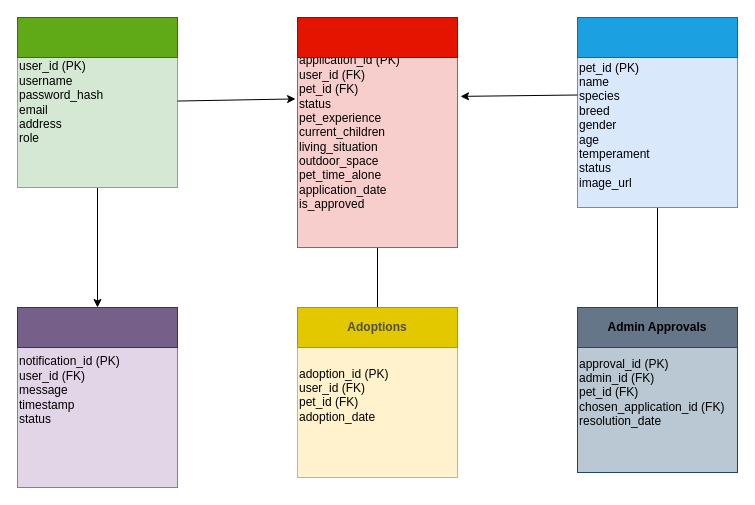
Image size: 755x505. Some labels were removed from this diagram. Here are the shapes that lost their labels. From the top down, the centre of each, then its label:
the point at 97,37: Users
the point at 377,37: Applications
the point at 657,37: Pets
the point at 97,327: Notifications
